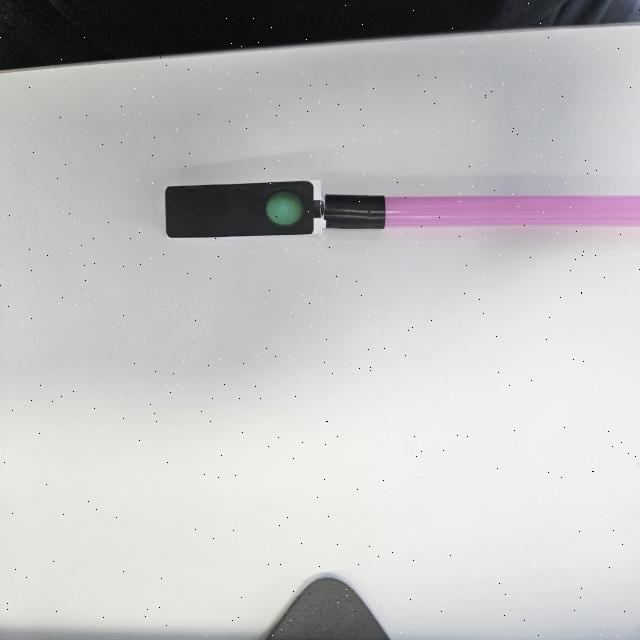traffic light: (166, 181, 325, 238)
